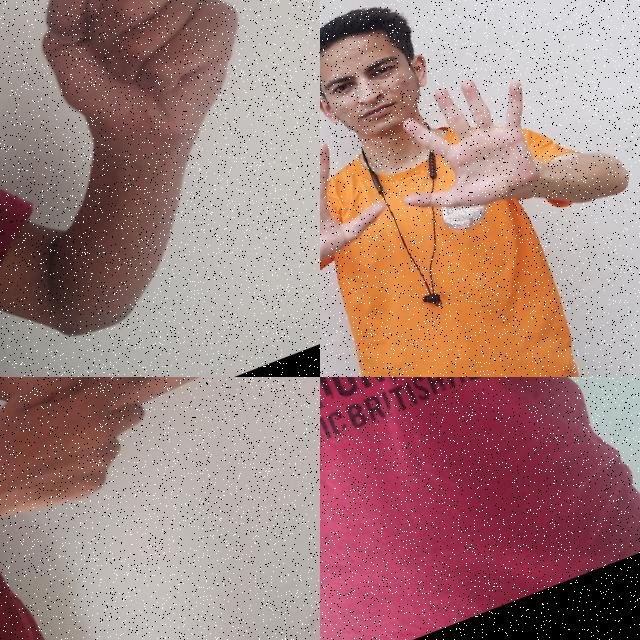Dulya: (4, 0, 287, 197)
Five Fathers: (0, 377, 320, 562)
Moutza: (362, 44, 574, 248), (320, 102, 400, 299)
